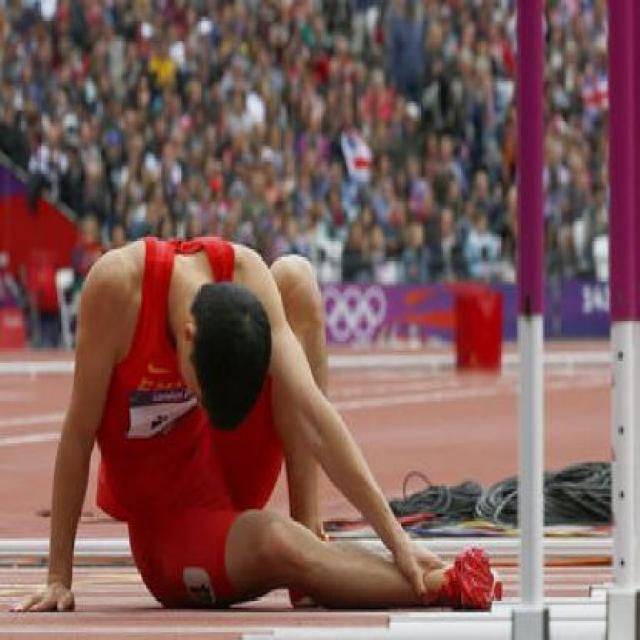fall: (13, 217, 501, 609)
